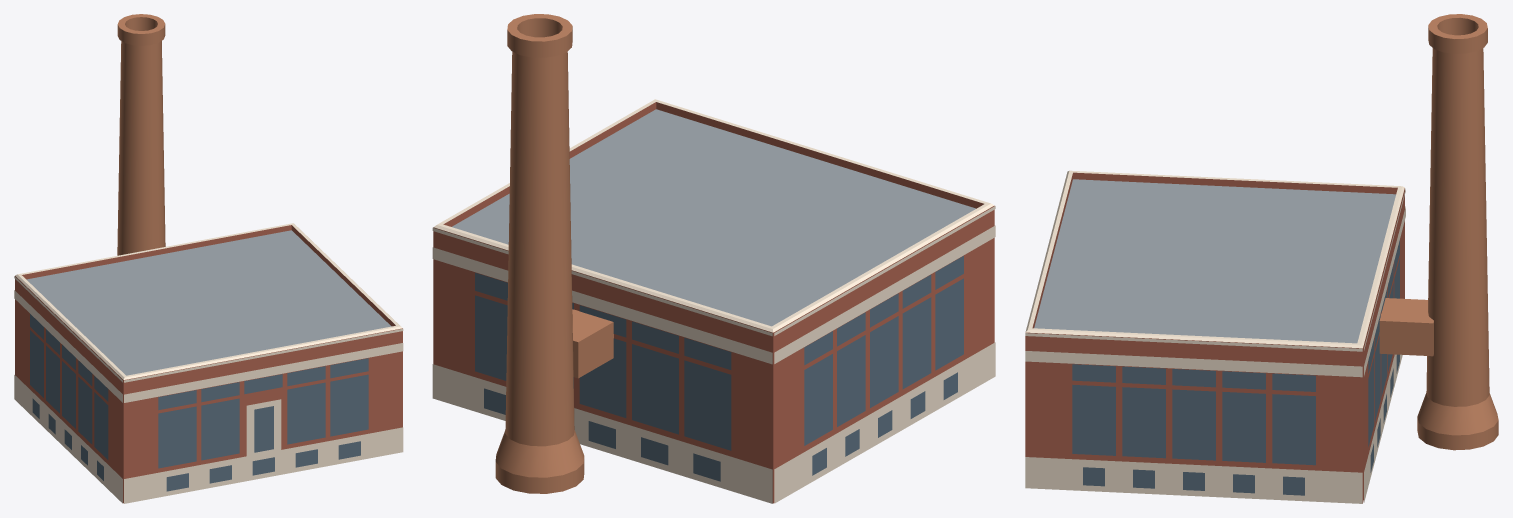
3 renders of one model, left to right at view 1: azimuth 30°, elevation 25°; view 2: azimuth 150°, elevation 25°; view 3: azimuth 270°, elevation 25°, orthographic. The views are drawn at different scales.
Parts seen in each view (by area): view 1: kahn-boilerhouse; view 2: kahn-boilerhouse; view 3: kahn-boilerhouse.
Part boxes in pixels (x1,y1,x2,y2): kahn-boilerhouse: [14, 14, 403, 503]; kahn-boilerhouse: [432, 14, 995, 503]; kahn-boilerhouse: [1025, 14, 1498, 503].
Bounding box in the file's own units: 23.14 × 24.7 × 26.12.
